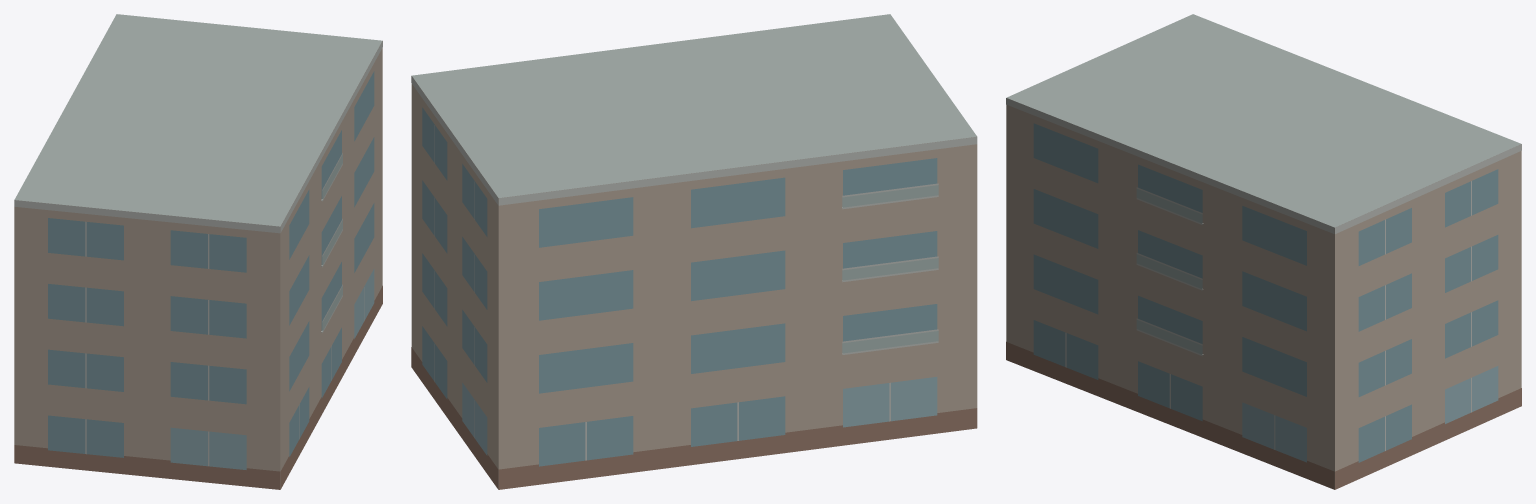
File: survey-upis-32826582.glb
The picture shows the model from 3 angles, left to right: view 1: azimuth 30°, elevation 25°; view 2: azimuth 150°, elevation 25°; view 3: azimuth 270°, elevation 25°; orthographic projection. The views are drawn at different scales.
Visible parts, largest first — view 1: survey-upis-32826582.tmp; view 2: survey-upis-32826582.tmp; view 3: survey-upis-32826582.tmp.
Boxes of the visible parts, x1=… form: survey-upis-32826582.tmp: x1=14, y1=14, x2=382, y2=489; survey-upis-32826582.tmp: x1=411, y1=14, x2=977, y2=489; survey-upis-32826582.tmp: x1=1006, y1=14, x2=1521, y2=489.
Bounding box in the file's own units: 16.6 × 9.5 × 16.93.
